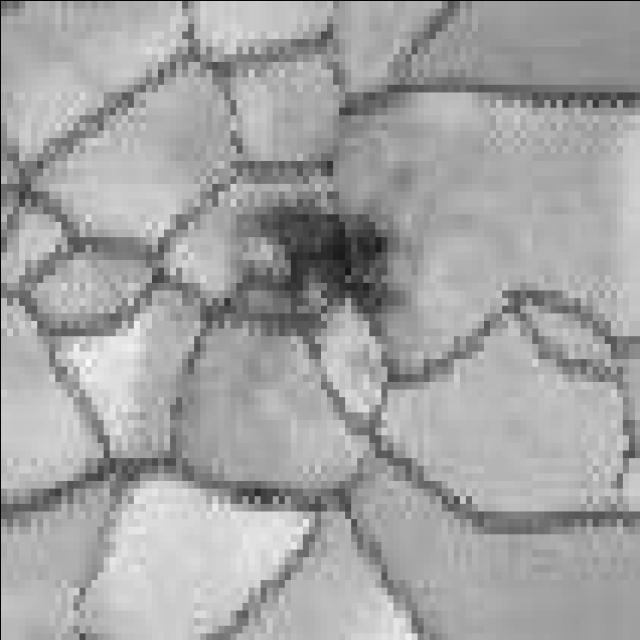good_void: (238, 197, 393, 343)
